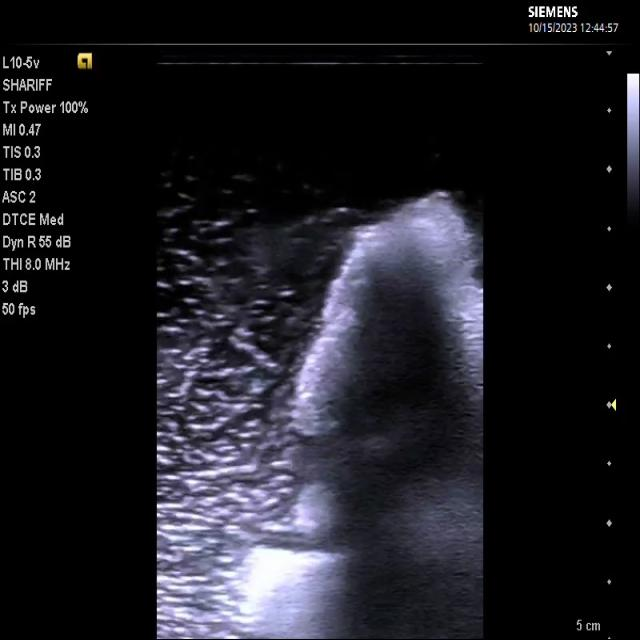tissue: (241, 194, 482, 637)
